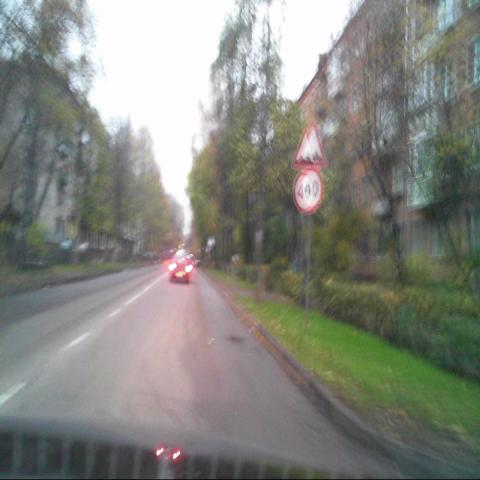1_16: (292, 128, 317, 170)
